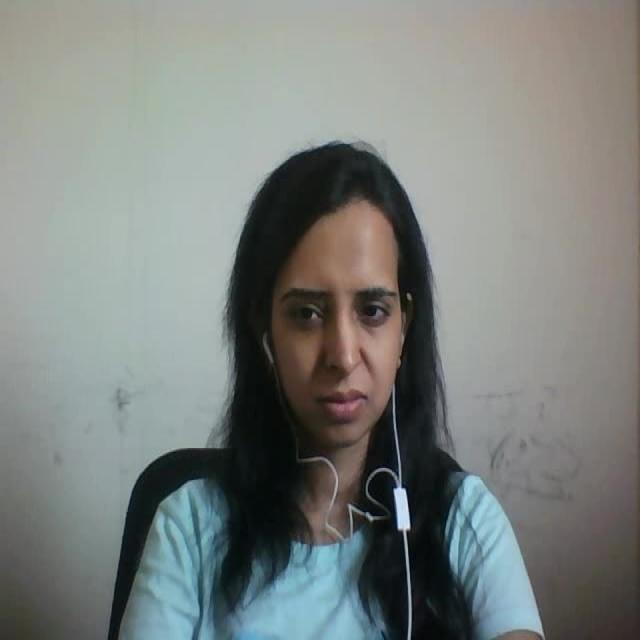Engaged: (208, 116, 462, 513)
